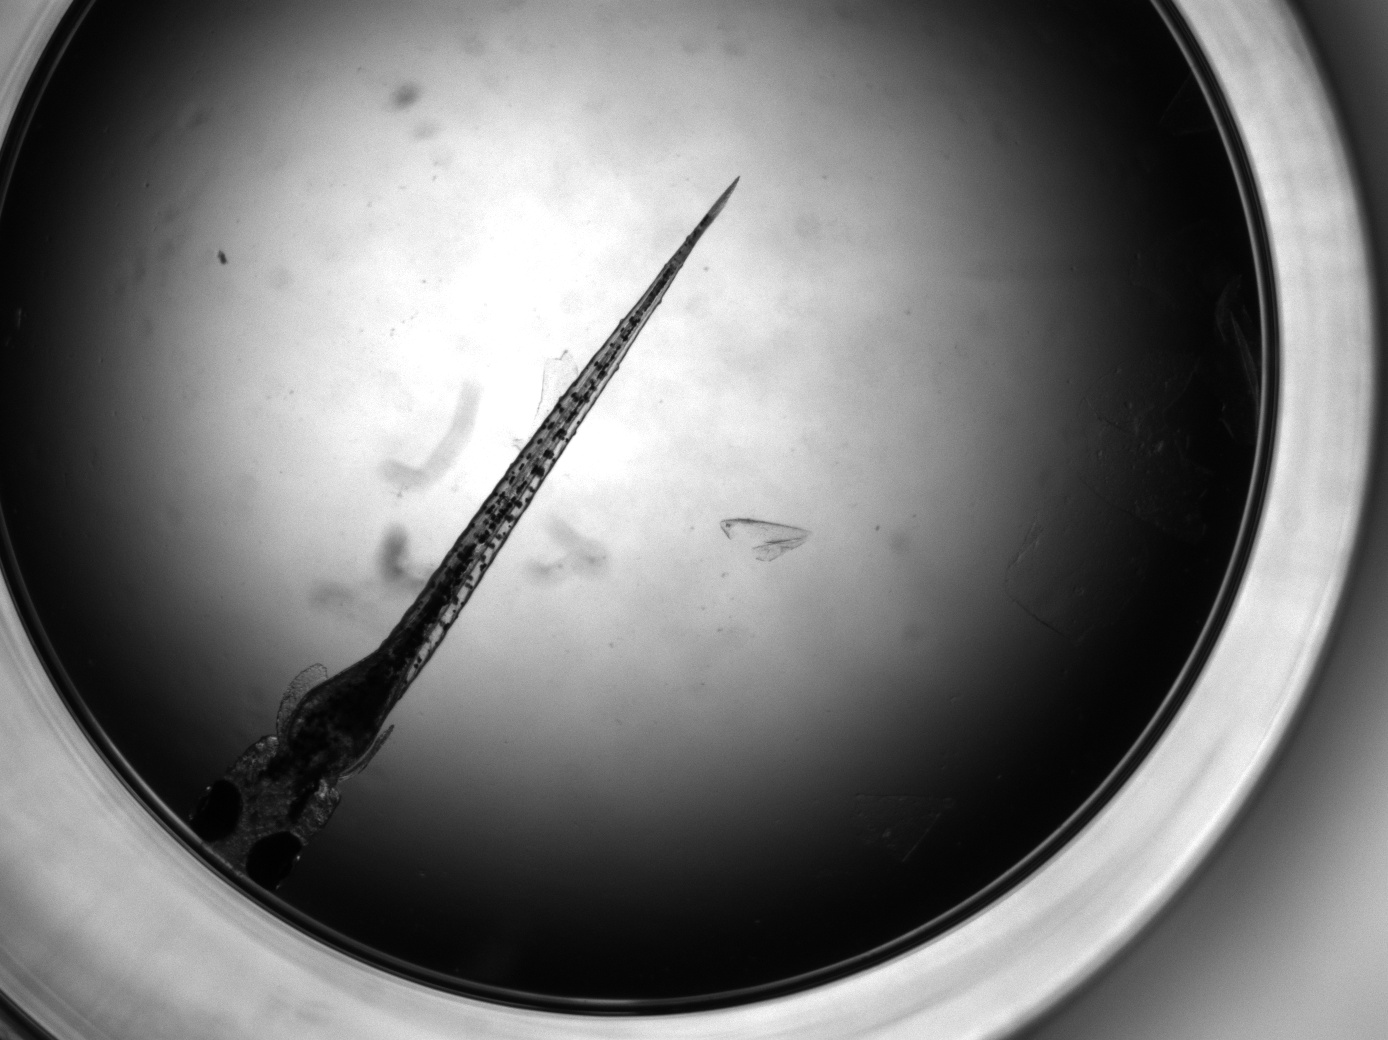debris: (721, 517, 815, 566)
embryo: (186, 174, 743, 893)
eye: (188, 780, 244, 844), (244, 832, 304, 890)
yolksac: (278, 625, 426, 775)
